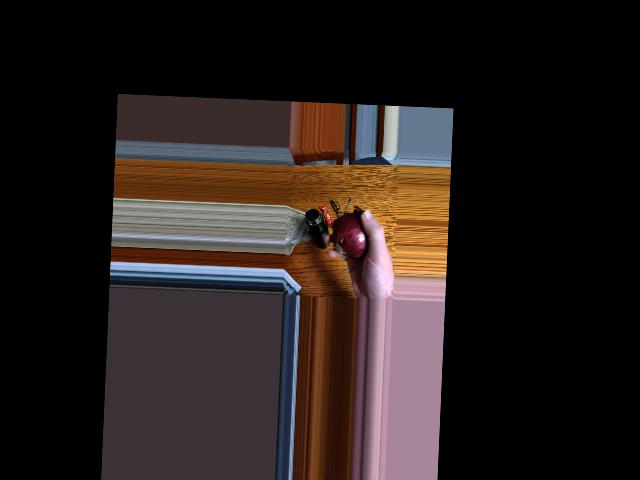onion: (335, 213, 371, 255)
